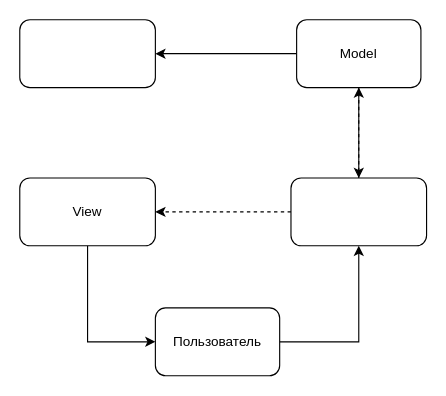
This 446x396 diagram has some shape labels left out. Here are the shapes that lost their labels. From the top down, the centre of each, then its label:
At pixel 87 53: "Service".
At pixel 358 211: "Controller".
